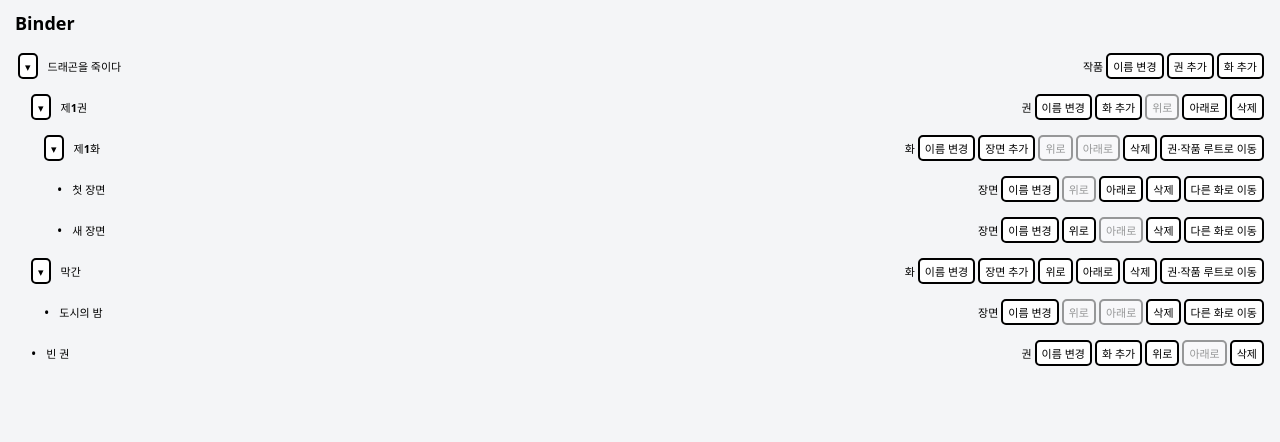
Test case: Phase 1A Binder › moves a chapter to the selected work or volume work-1, including an empty volume
This screenshot has width=1280, height=442.
Click the button with aria-label "제1화 권·작품 루트로 이동": (1212, 148) [1160,135,1264,161]
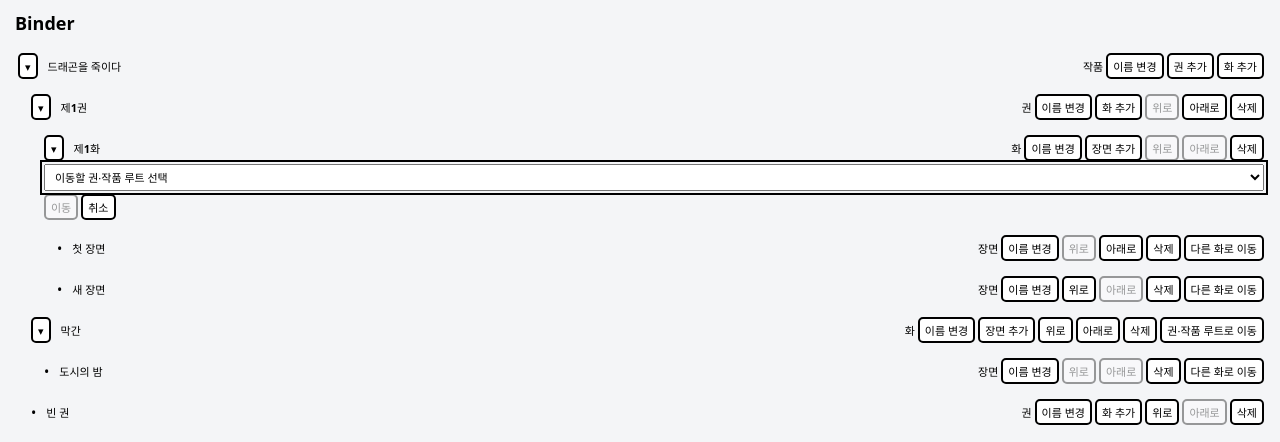
expect the button "이동" is disabled: met, box [44,194,78,220]
Select "드래곤을 죽이다 (작품 루트)" in the dropdown named "제1화 이동할 권·작품 루트": (654, 178) [44,164,1264,191]
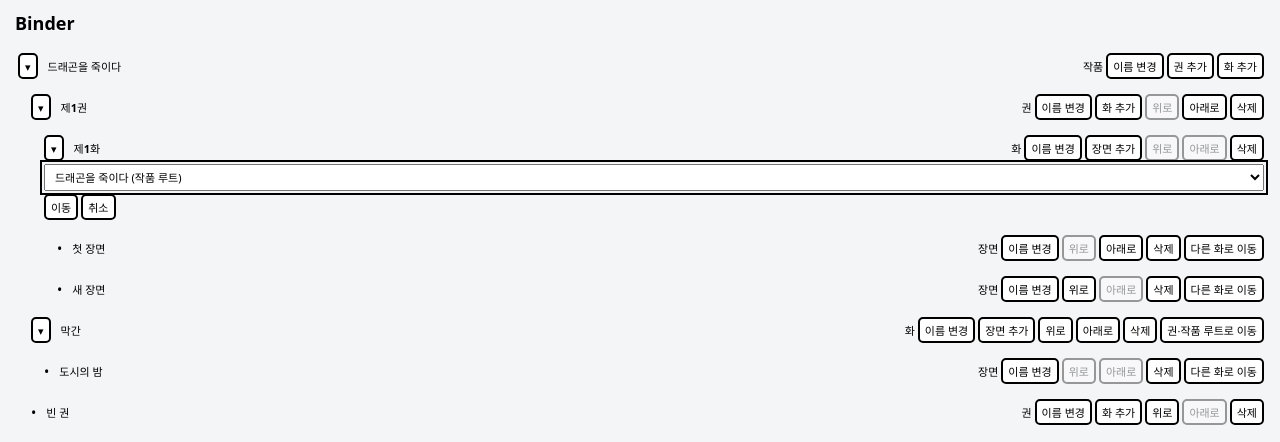
Click the button "이동": (61, 207) [44,194,78,220]
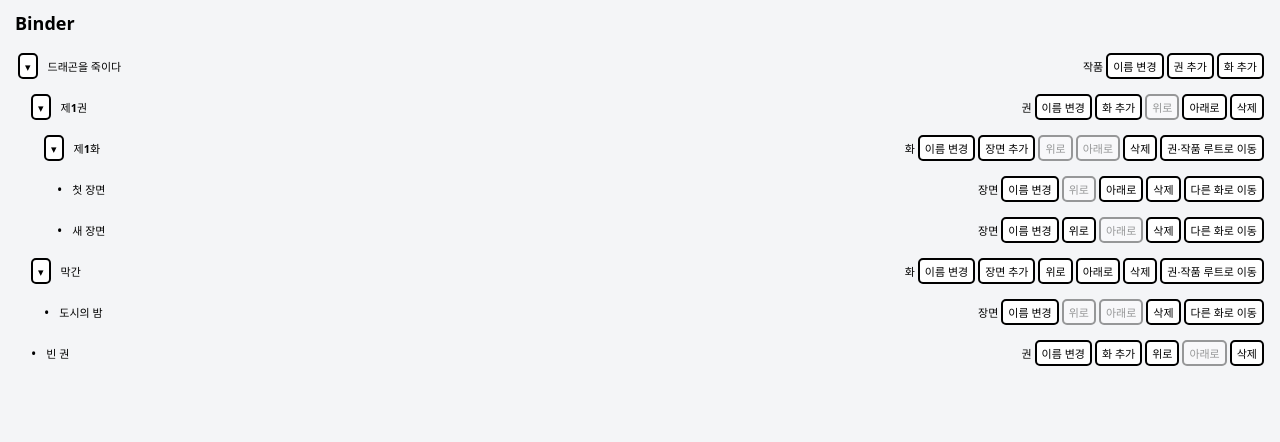
expect the dropdown is gone: met
